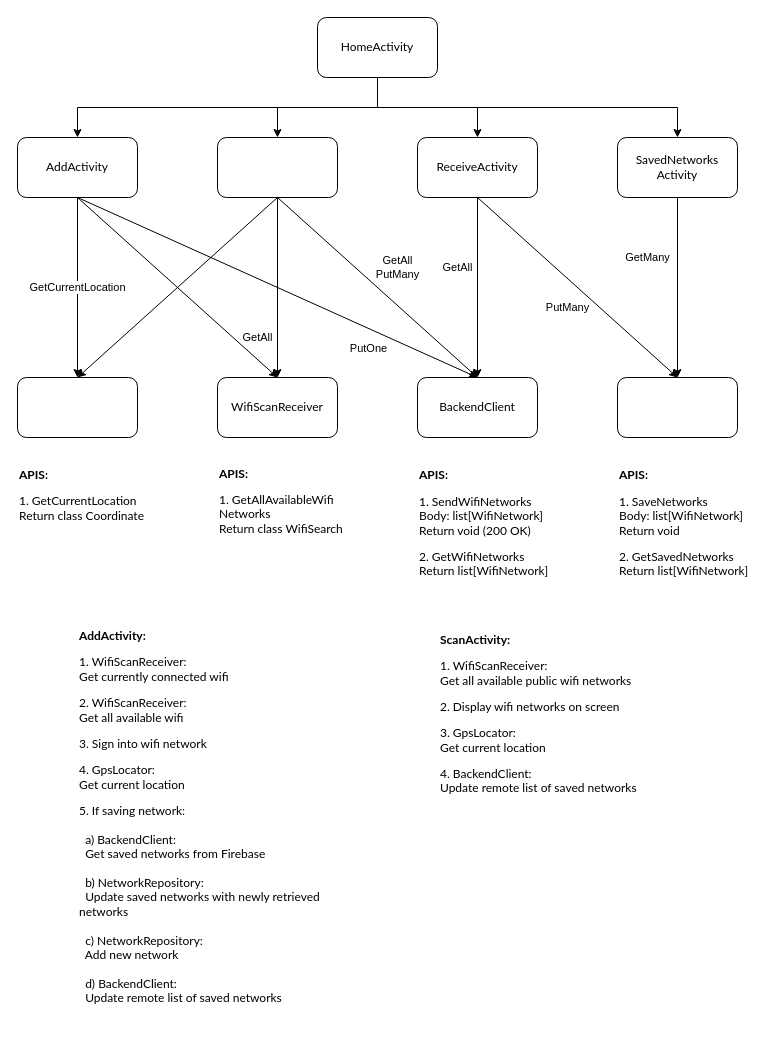
Some shapes in this 775 by 1049 pixel diagram are drawn without their labels. Here are the shapes that lost their labels. From the top down, the centre of each, then its label:
point (277, 167): ScanActivity
point (77, 407): GpsLocator
point (677, 407): NetworkRepository
